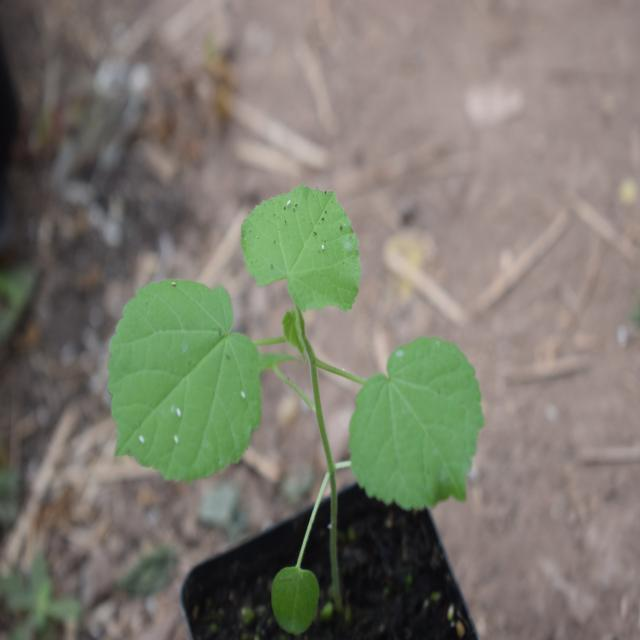abutilon theophrasti: (106, 163, 467, 562)
